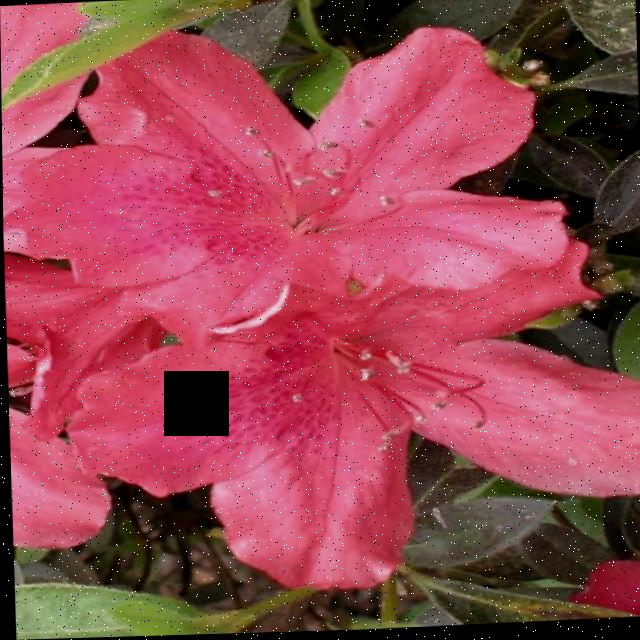azalea: (100, 271, 640, 601), (1, 30, 612, 320)
